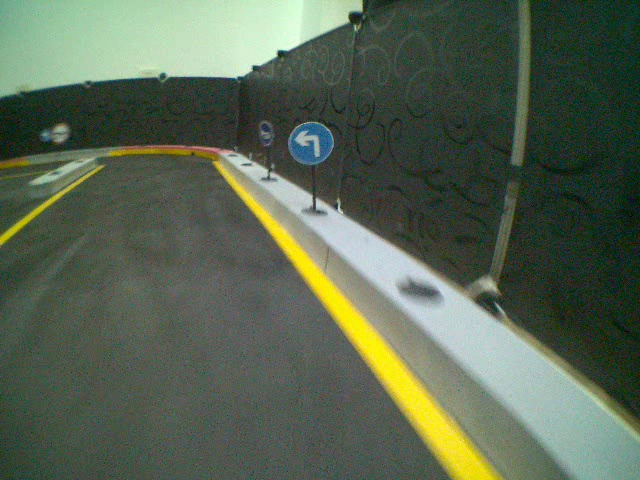Check: (50, 121, 71, 144)
crossing: (284, 120, 338, 167)
horn: (258, 121, 274, 148)
